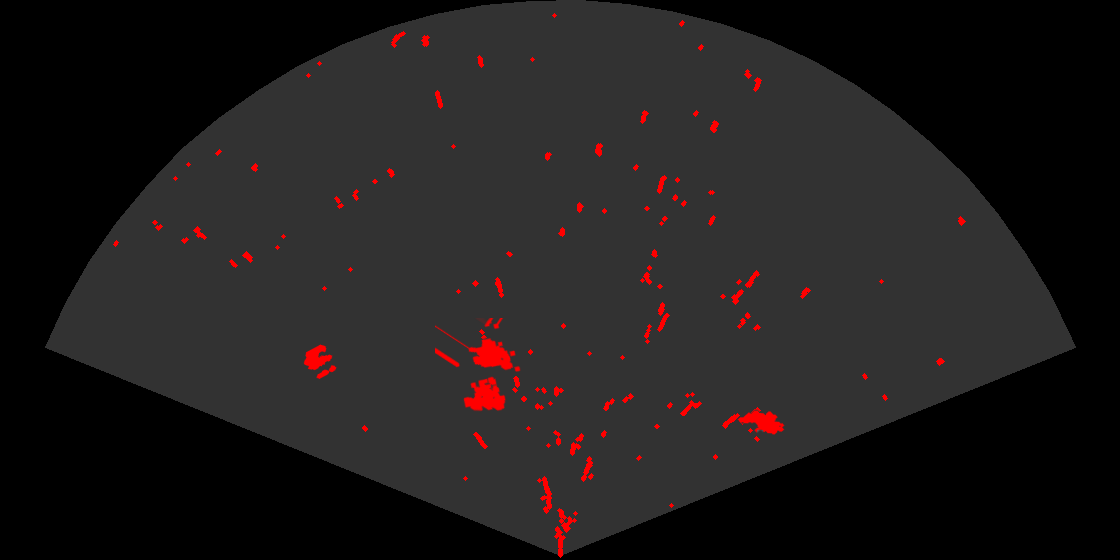AUV: (736, 409, 786, 436)
ball: (302, 343, 338, 381)
cage: (435, 318, 522, 413)
